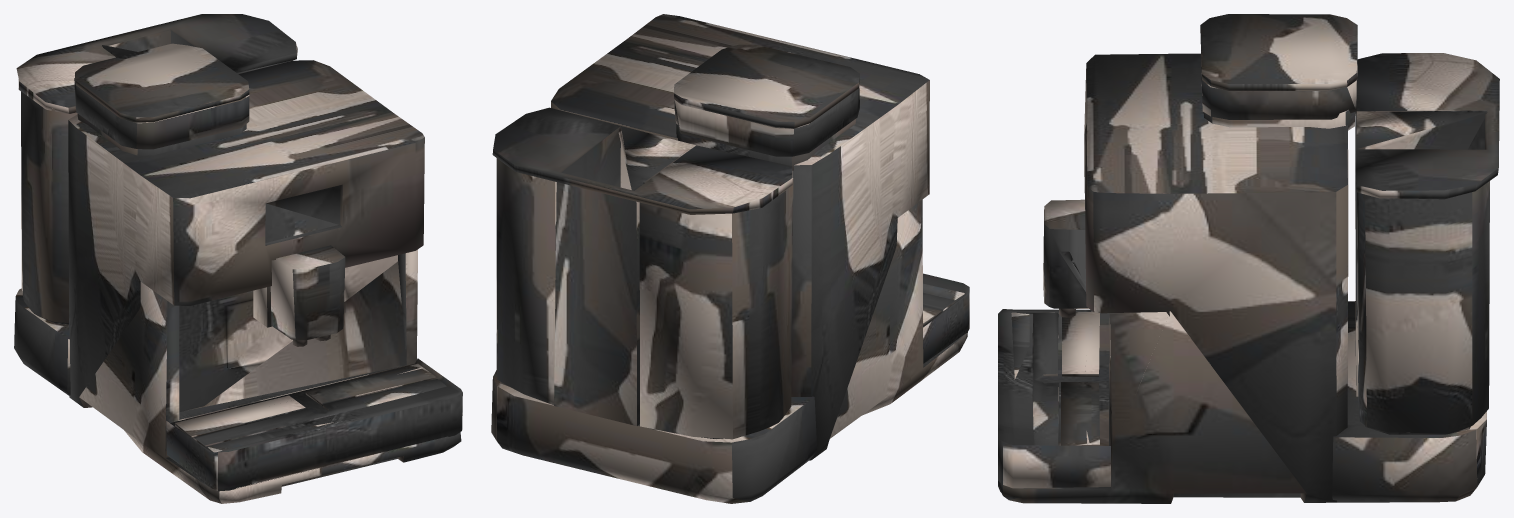
File: CoffeeMachine.fbx
3 views of the same model, side by side, from view 1: azimuth 30°, elevation 25°; view 2: azimuth 150°, elevation 25°; view 3: azimuth 270°, elevation 25° (orthographic). The views are drawn at different scales.
Visible parts, largest first — view 1: PROP_CoffeeMachine; view 2: PROP_CoffeeMachine; view 3: PROP_CoffeeMachine.
Boxes of the visible parts, x1,y1,x2,y2 form: PROP_CoffeeMachine: [14, 14, 462, 503]; PROP_CoffeeMachine: [491, 14, 969, 503]; PROP_CoffeeMachine: [998, 14, 1499, 503].
Size of the model in its own units: 31.53 by 38 by 48.04.
